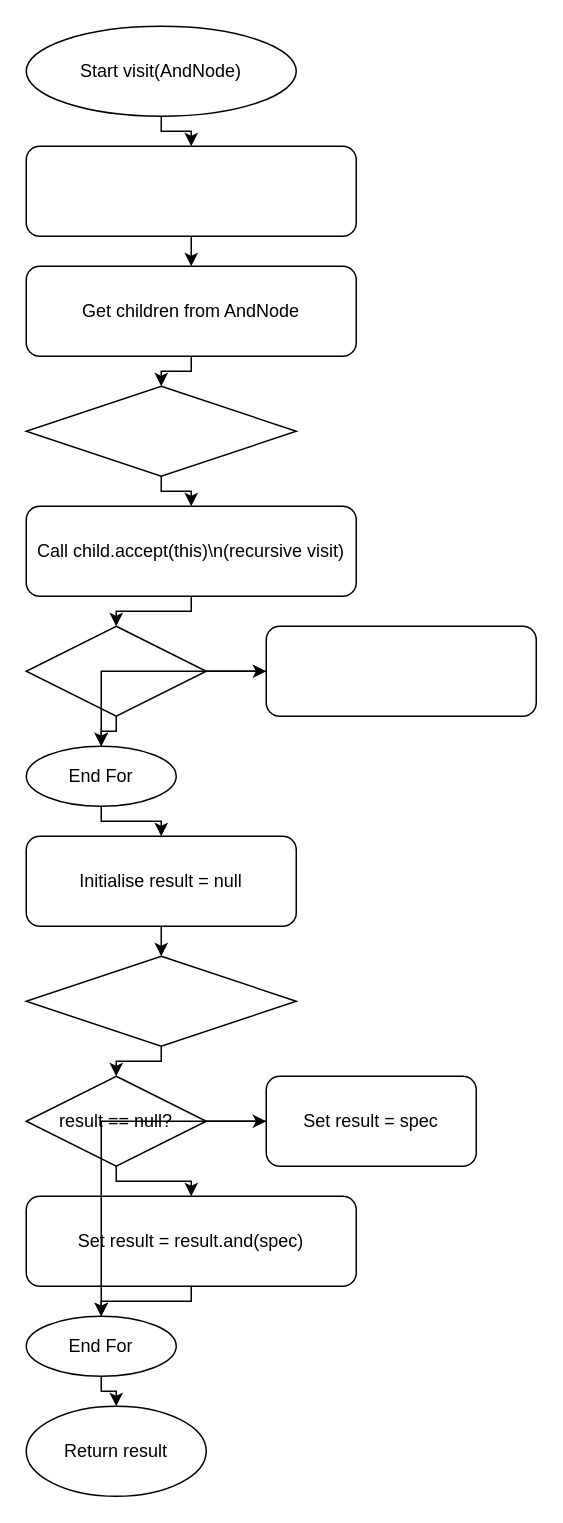
Image size: 563x1523. Some labels were removed from this diagram. Each missing label, with the centre of its shape:
Add childSpec to childSpecs: point (400, 670)
childSpec != null?: point (115, 670)
For each child in children: point (160, 430)
For each spec in childSpecs: point (160, 1000)
Initialise empty childSpecs list: point (190, 190)
